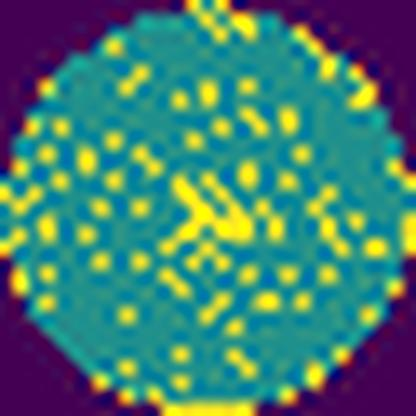Center: (158, 168, 270, 258)
